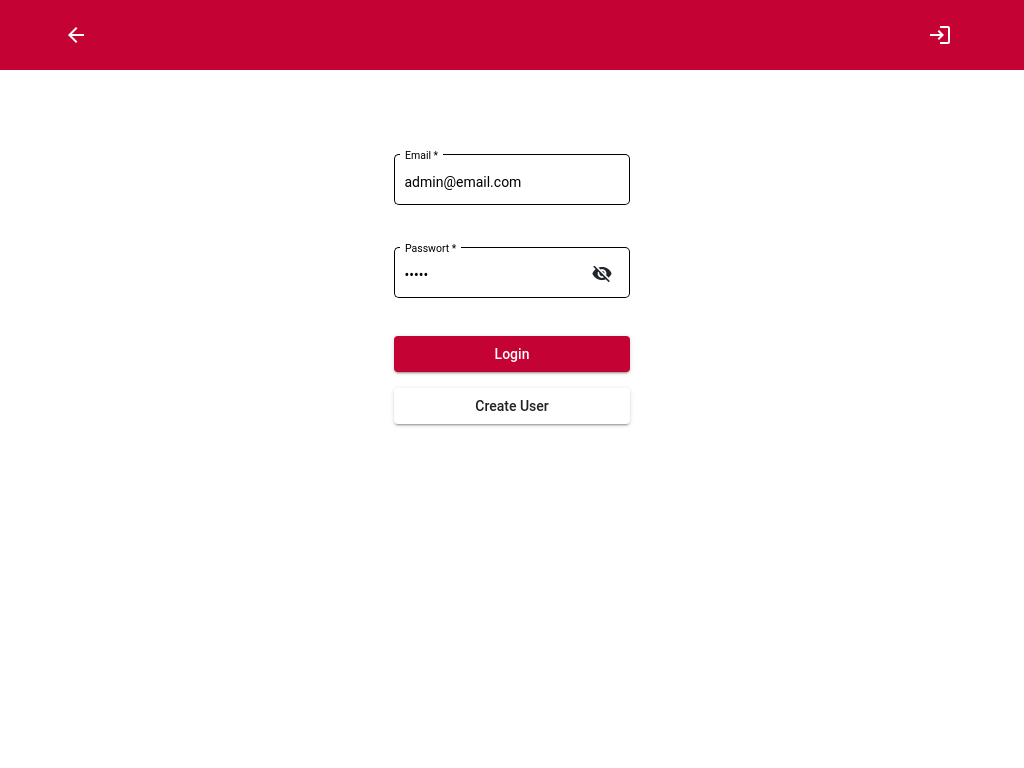
Test: Auth › check password-strength-validator if button disabled
Click the button "Create User" at (512,406), box [394,388,630,424]
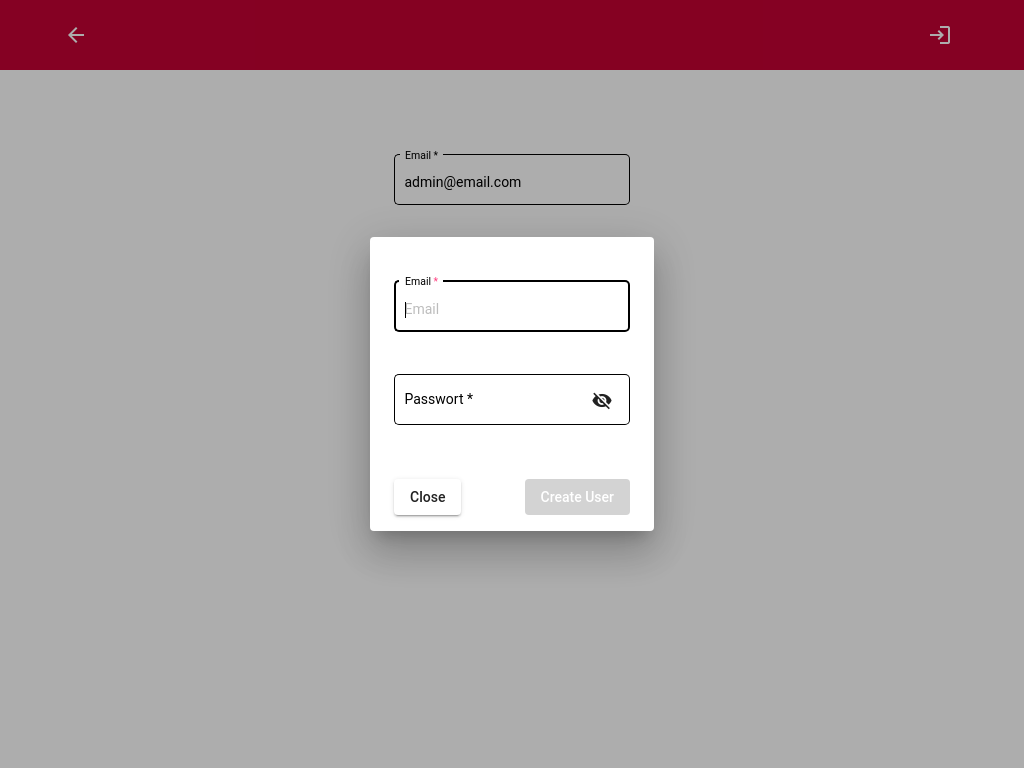
Type "test@mail.com" into the field labelled "Email *" at (513,310), box [405,302,620,318]
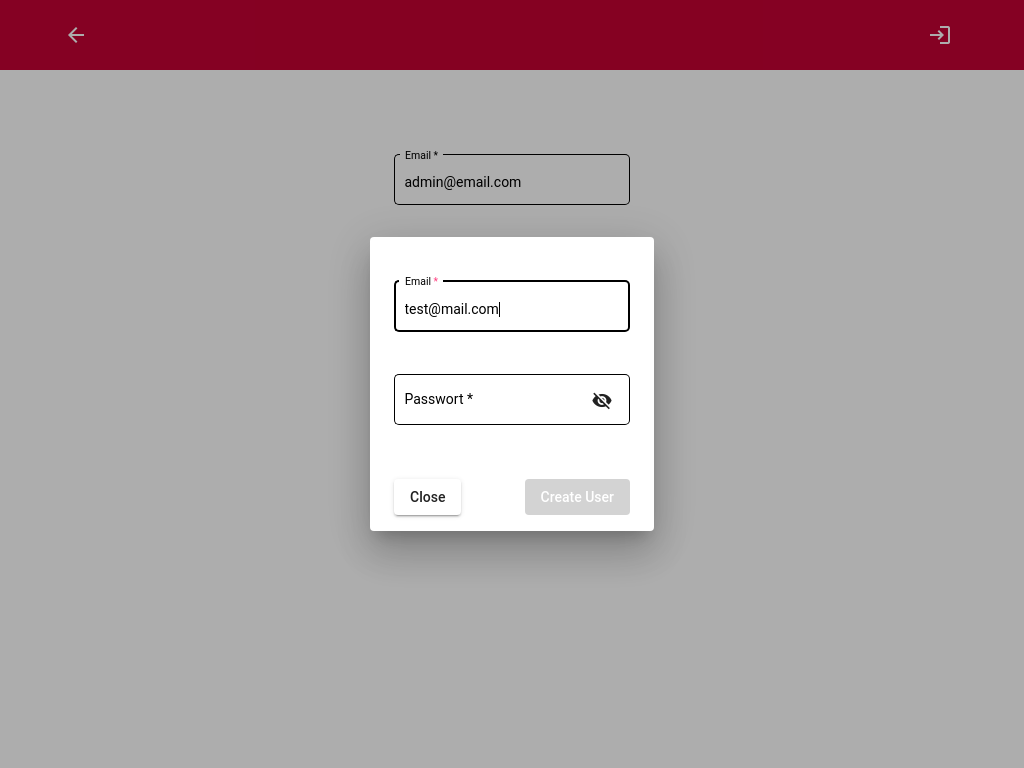
Type "abcd1234" into the password field labelled "Passwort *" at (495,403), box [405,395,585,411]
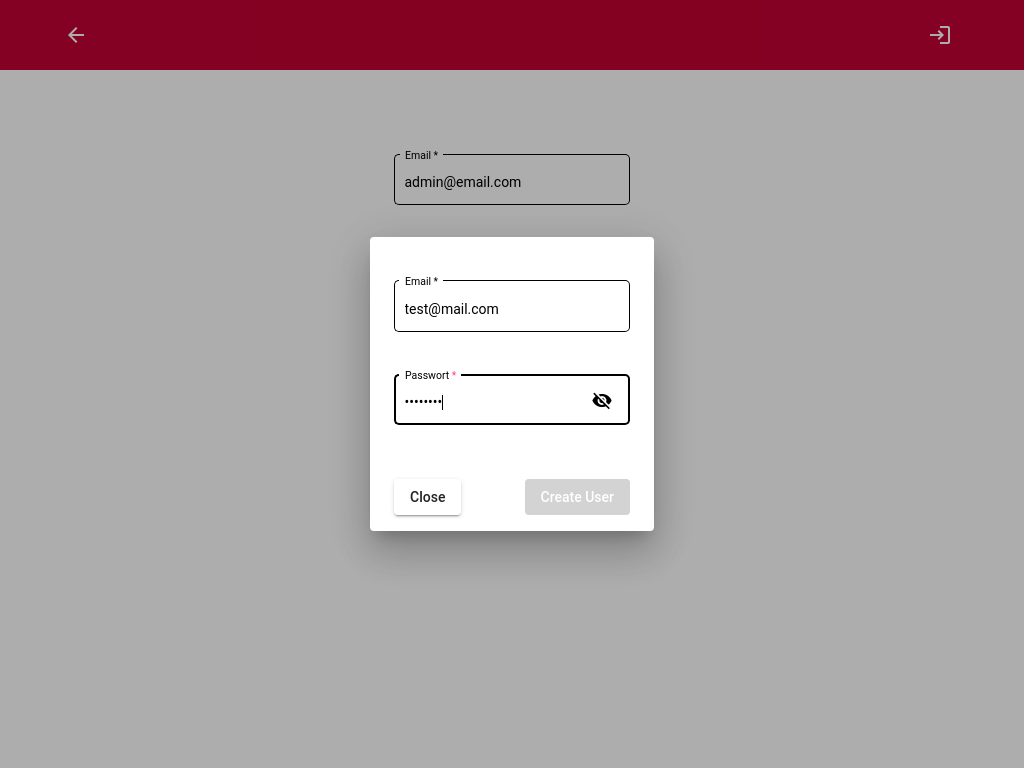
Click the field labelled "Email *" at (513,310), box [405,302,620,318]
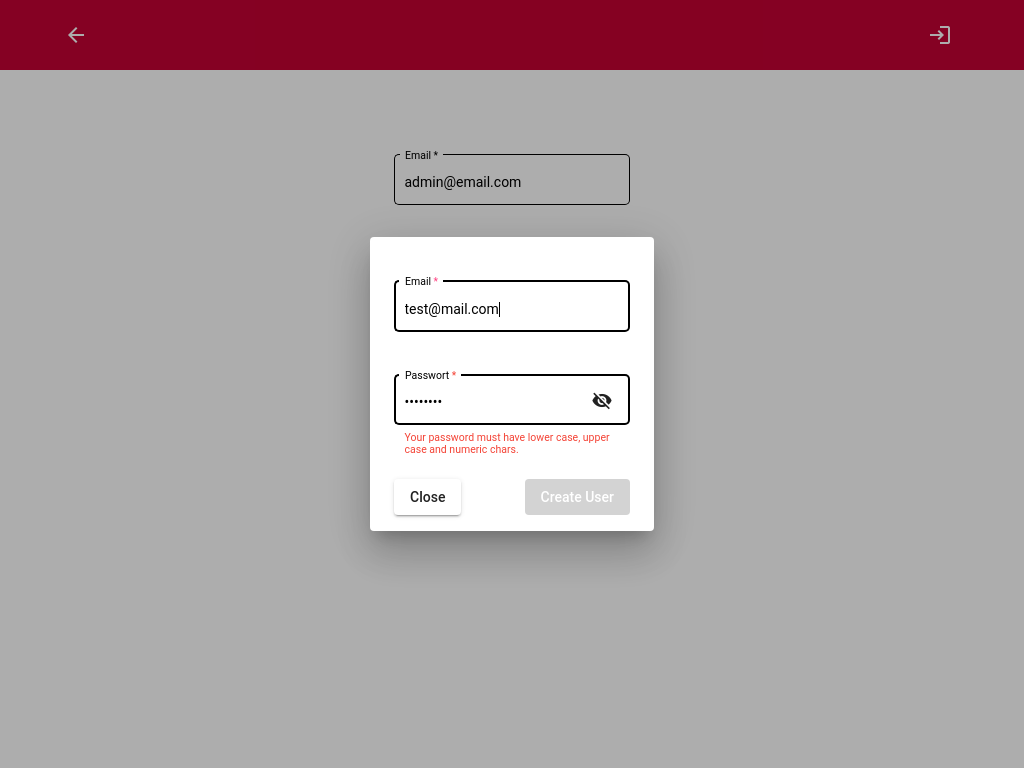
Expected: the text "Your password must have lower case, upper case and numeric chars." is shown, [404,432,620,455]
